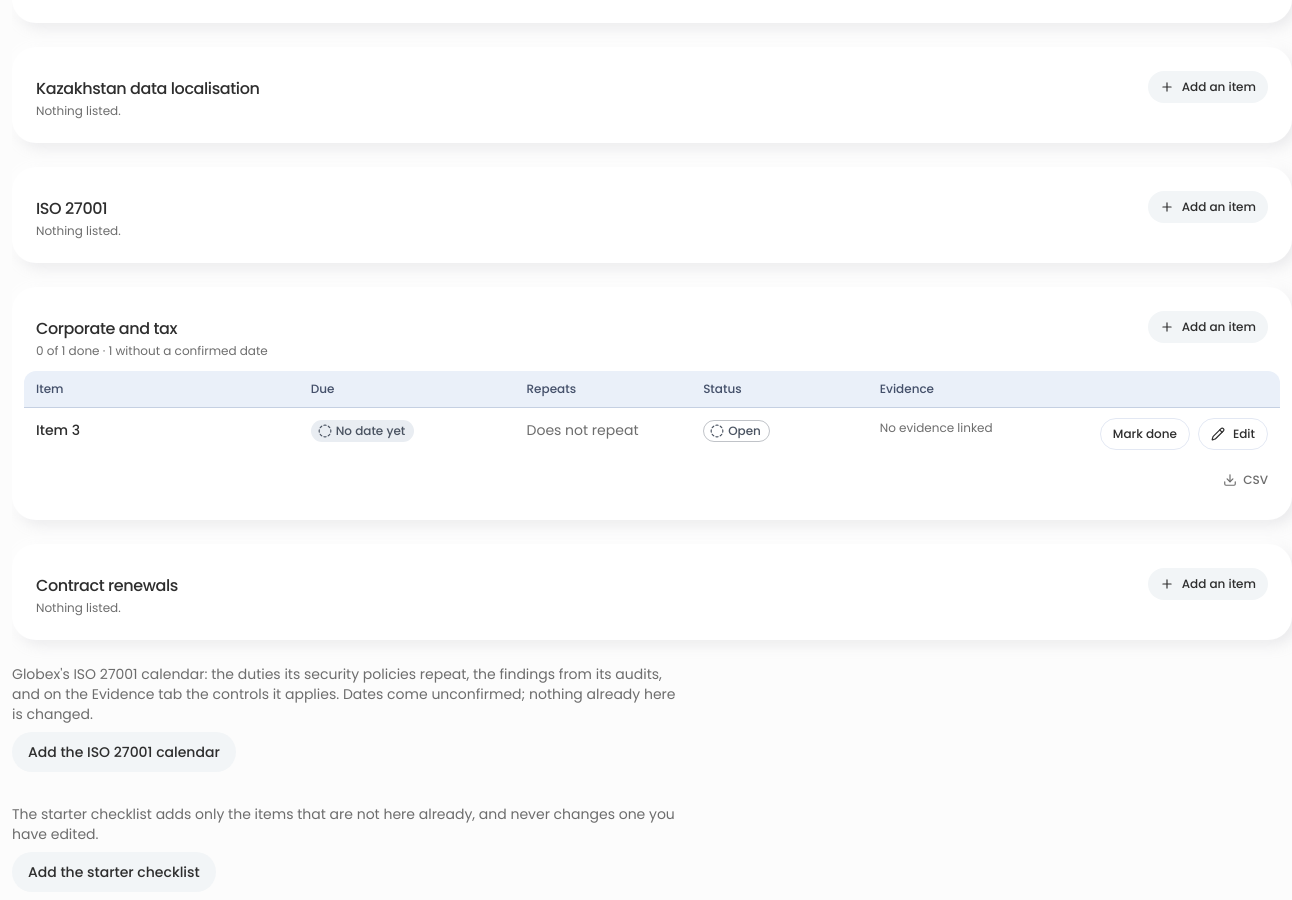
the compliance page › adding 0 says so
(page scrolled)
Expected: the text "The starter checklist adds only the items that are not here already, and never changes one you have edited." is shown, top-left (12, 804), bottom-right (675, 844)
Click the button "Add the starter checklist": [114, 872] box top-left (12, 852), bottom-right (216, 892)
(page scrolled)
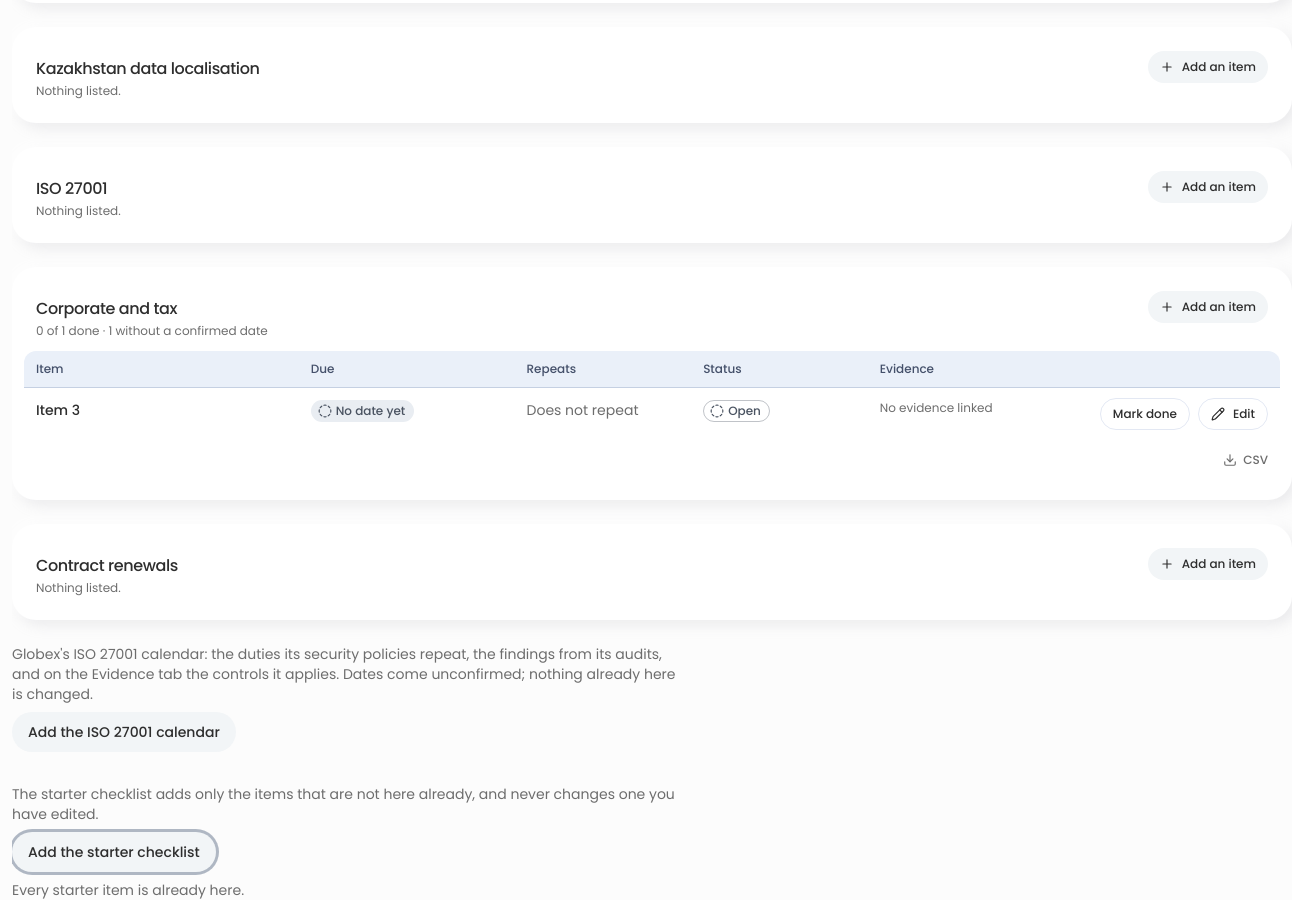
Now the text "Every starter item is already here." is shown, box top-left (12, 880), bottom-right (244, 899)
